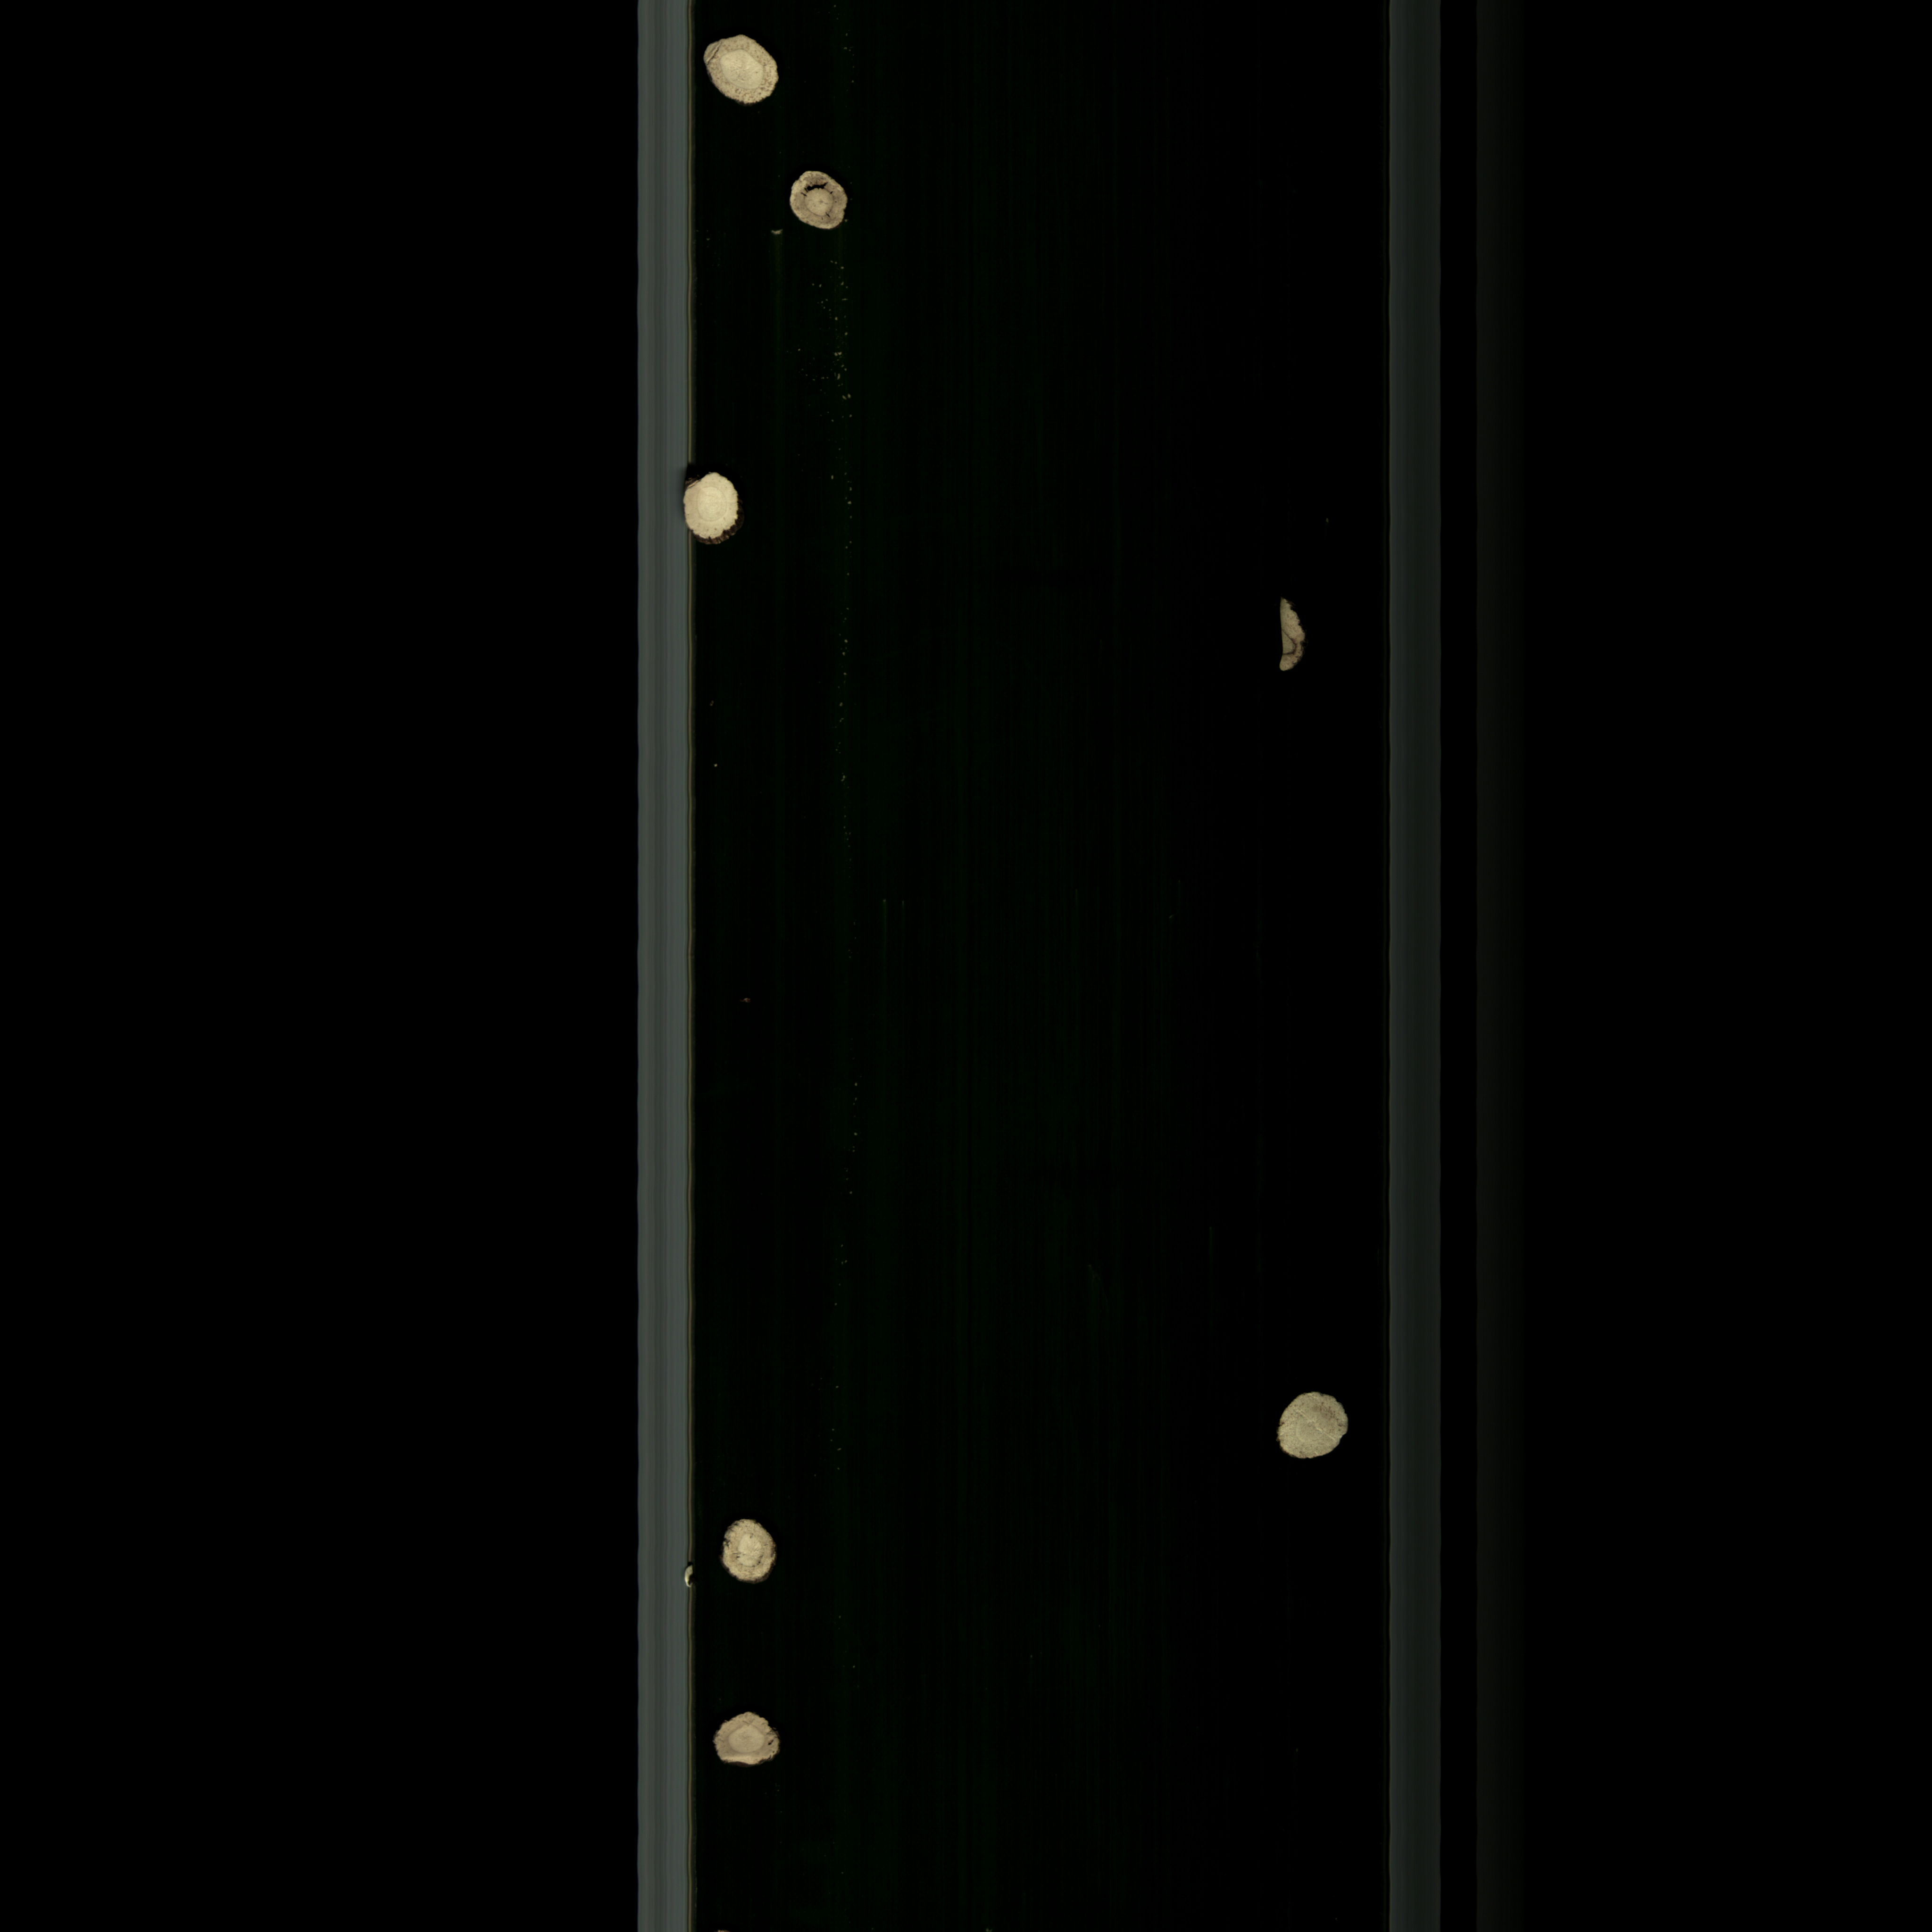moldy: (782, 147, 865, 248), (1263, 584, 1318, 685)
